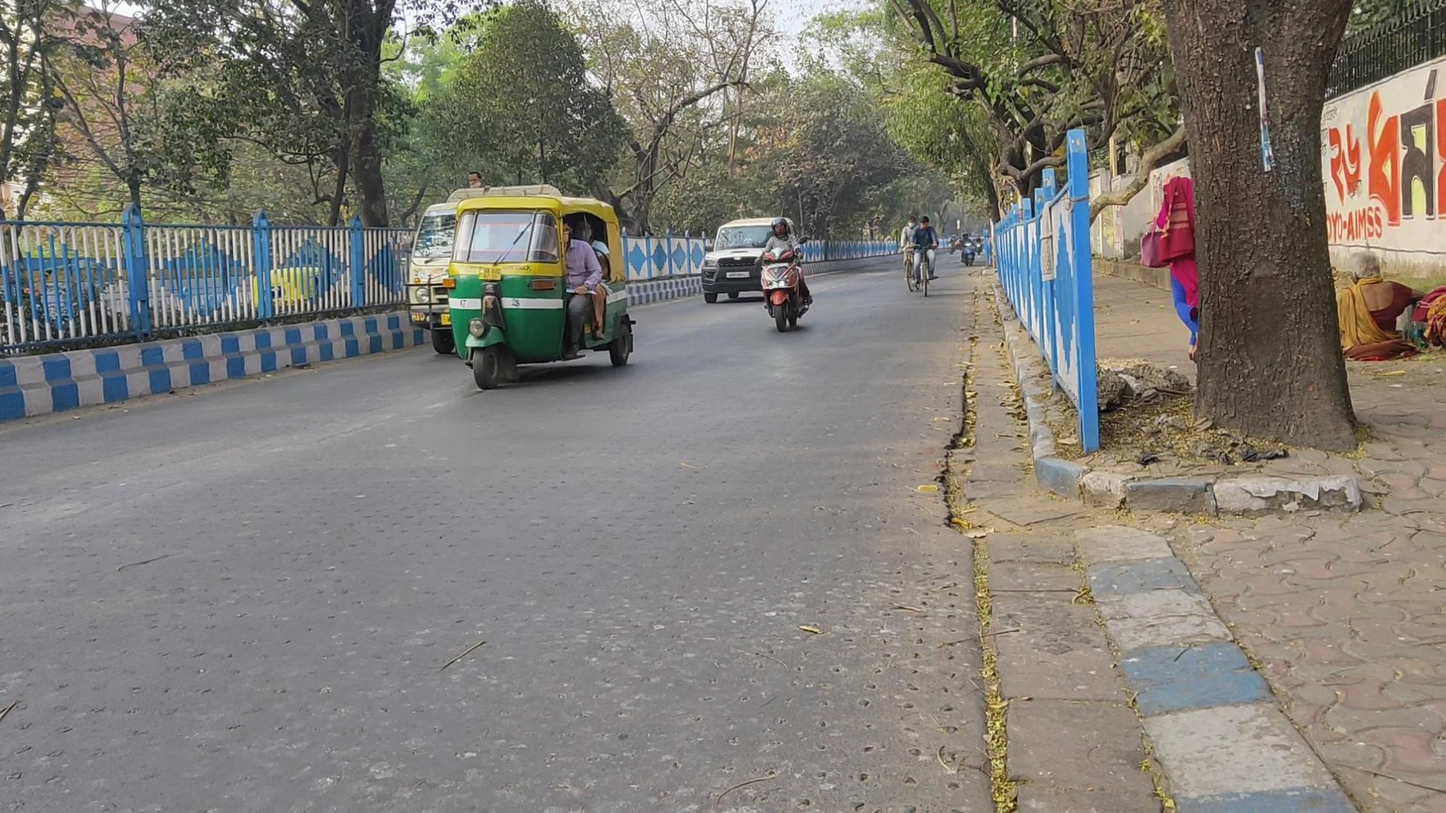Auto: (446, 196, 636, 389)
bike: (761, 216, 810, 332), (896, 220, 918, 293), (915, 217, 935, 294), (959, 233, 975, 266)
car: (702, 215, 795, 304)
van: (407, 184, 572, 358)
